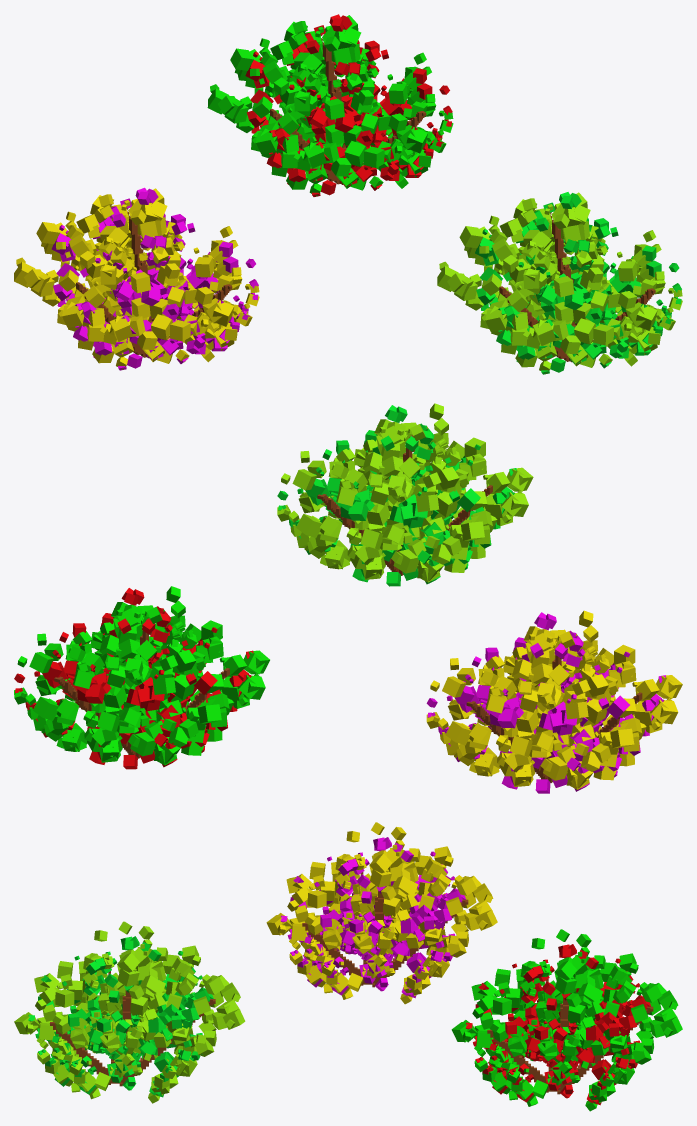
Rendered from куст 1.dae.
3 renders of one model, top to bottom at view 1: azimuth 30°, elevation 25°; view 2: azimuth 150°, elevation 25°; view 3: azimuth 270°, elevation 25°, orthographic. The views are drawn at different scales.
Visible parts, largest first — view 1: Куб.001, Куб.002, Куб.017, Плоскость, Плоскость.002, Плоскость.001; view 2: Куб.002, Куб.001, Куб.017, Плоскость.002, Плоскость, Плоскость.001; view 3: Куб.017, Куб.001, Куб.002, Плоскость, Плоскость.001, Плоскость.002.
Boxes of the visible parts, <box> form: Куб.001: <box>207,14,453,196</box>; Куб.002: <box>14,187,259,370</box>; Куб.017: <box>437,192,682,374</box>; Плоскость: <box>270,35,426,184</box>; Плоскость.002: <box>76,208,232,358</box>; Плоскость.001: <box>499,212,655,362</box>; Куб.002: <box>426,610,682,793</box>; Куб.001: <box>14,586,269,769</box>; Куб.017: <box>277,403,533,586</box>; Плоскость.002: <box>466,642,642,782</box>; Плоскость: <box>54,618,229,758</box>; Плоскость.001: <box>317,435,492,575</box>; Куб.017: <box>14,921,245,1103</box>; Куб.001: <box>451,929,682,1111</box>; Куб.002: <box>266,822,497,1004</box>; Плоскость: <box>487,979,653,1094</box>; Плоскость.001: <box>50,971,215,1086</box>; Плоскость.002: <box>302,872,468,987</box>.
Bounding box in the file's own units: 5.92 × 7.5 × 2.13.
